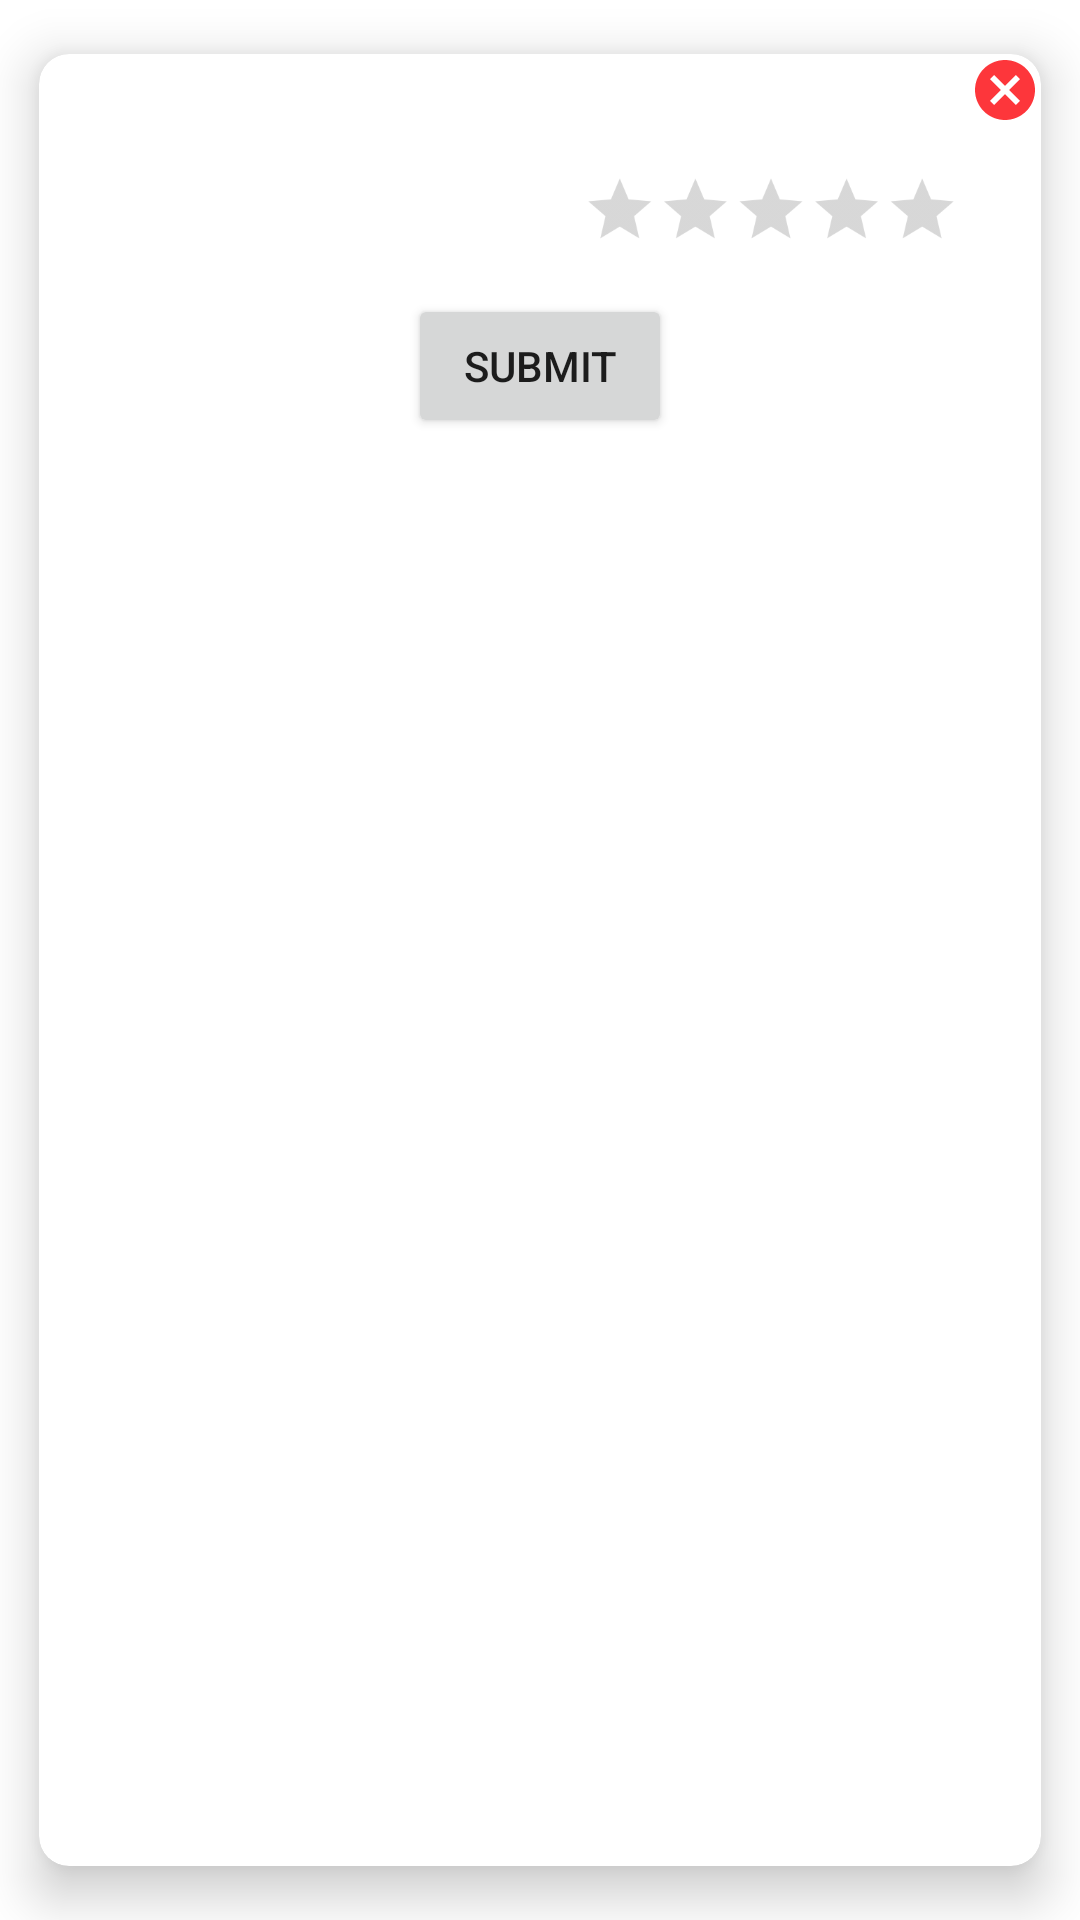

Locate icon controls on the screen. Image size 1080 x 1920, boxes as (x1, y1, x2, y2).
cancel: (975, 60, 1035, 120)
